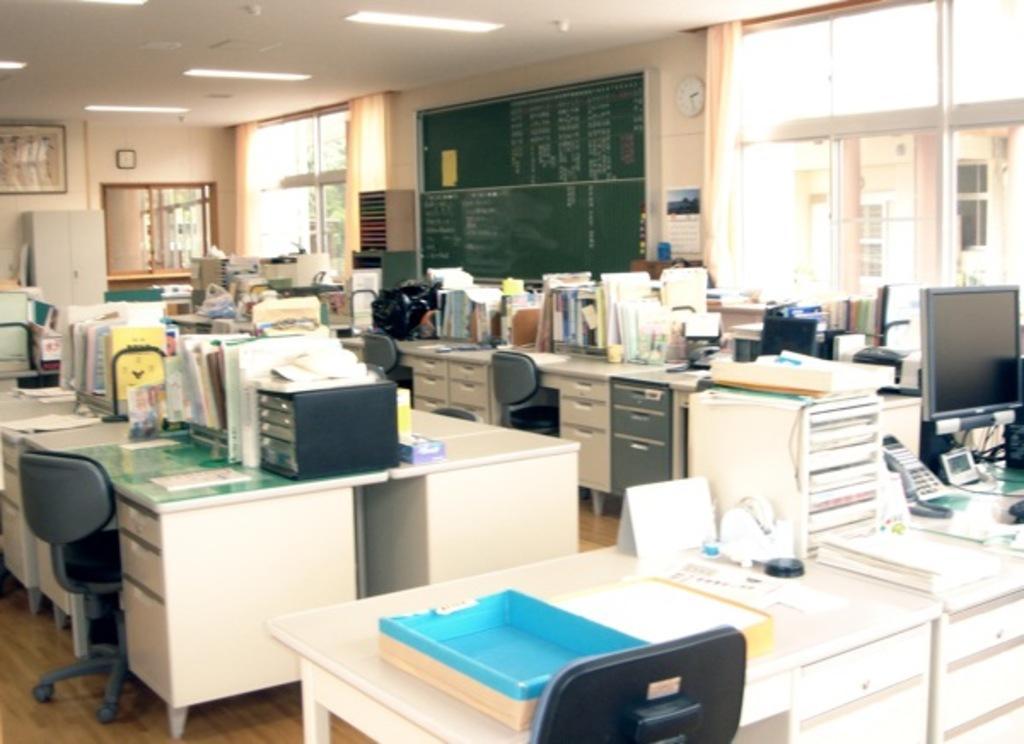cabinet_door: (796, 650, 922, 689), (126, 586, 168, 679), (814, 707, 918, 744), (953, 668, 1024, 710), (69, 215, 101, 299), (939, 619, 1024, 650), (35, 212, 67, 290), (0, 504, 28, 576), (614, 440, 670, 472), (125, 542, 165, 586), (612, 407, 670, 435), (612, 380, 668, 408), (116, 510, 162, 538), (559, 400, 607, 420), (560, 379, 610, 397), (446, 384, 486, 405), (413, 376, 443, 399), (450, 364, 486, 382), (413, 360, 444, 374)
